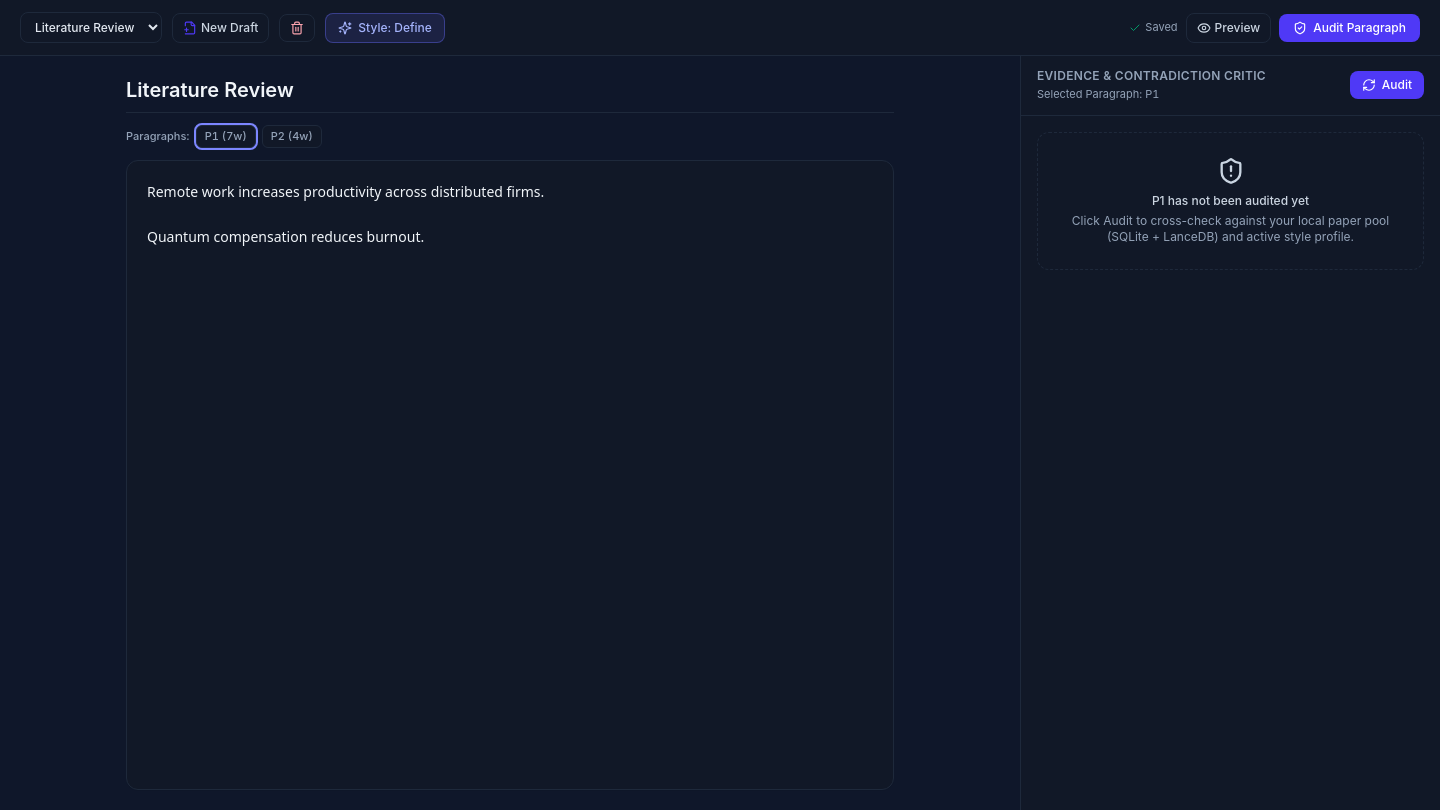
Test: DraftCriticTab › audits paragraph, links cited paper to PaperDetailDrawer, and dismisses findings
The width and height of the screenshot is (1440, 810).
Later steps or results of the test are not shown.
Expected: the dropdown showing "Literature Review" is shown, left=20, top=12, right=162, bottom=43
Step 1. Click the button "Audit Paragraph" → coordinates (1350, 28), box left=1279, top=14, right=1420, bottom=42
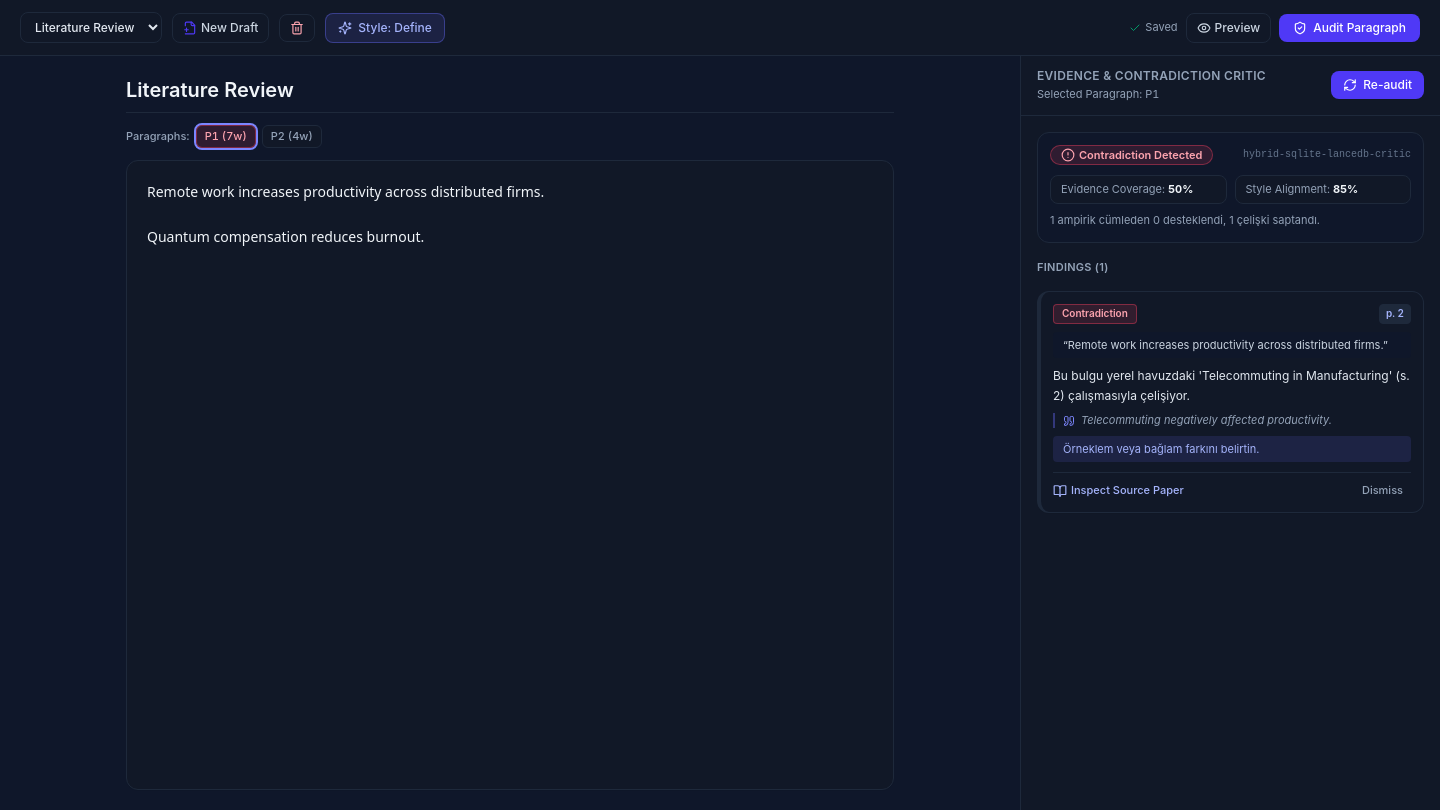
Result: the text "Contradiction Detected" is shown at left=1050, top=144, right=1213, bottom=165
Result: the button "p. 2" is shown at left=1379, top=304, right=1411, bottom=324
